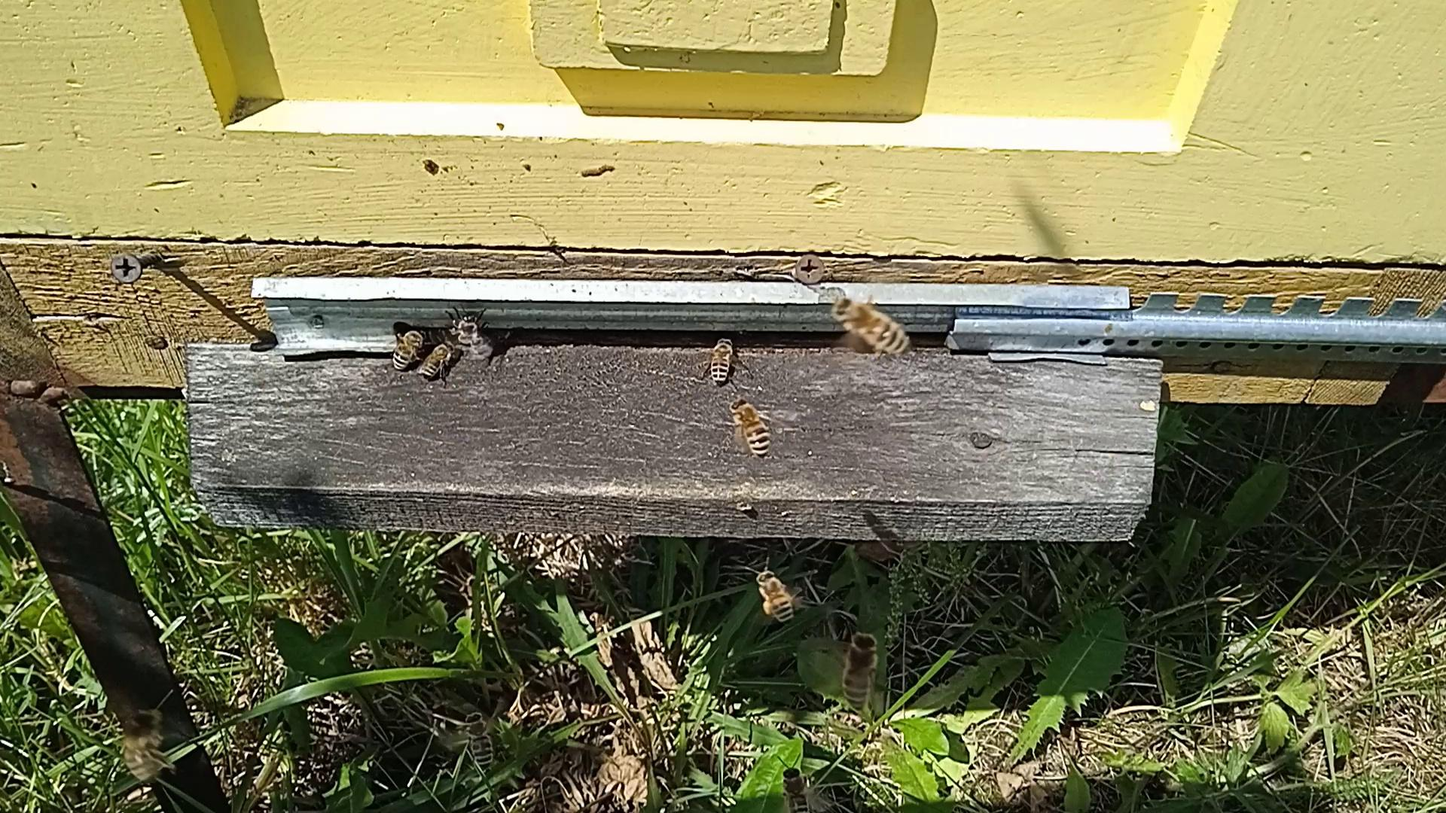worker-bee: (829, 295, 910, 356), (121, 708, 171, 785), (840, 630, 878, 708), (730, 397, 773, 458), (755, 568, 796, 626), (464, 711, 496, 772), (706, 336, 737, 386), (392, 327, 427, 370), (781, 766, 813, 813), (420, 341, 456, 382), (448, 312, 482, 348), (469, 336, 493, 364)
